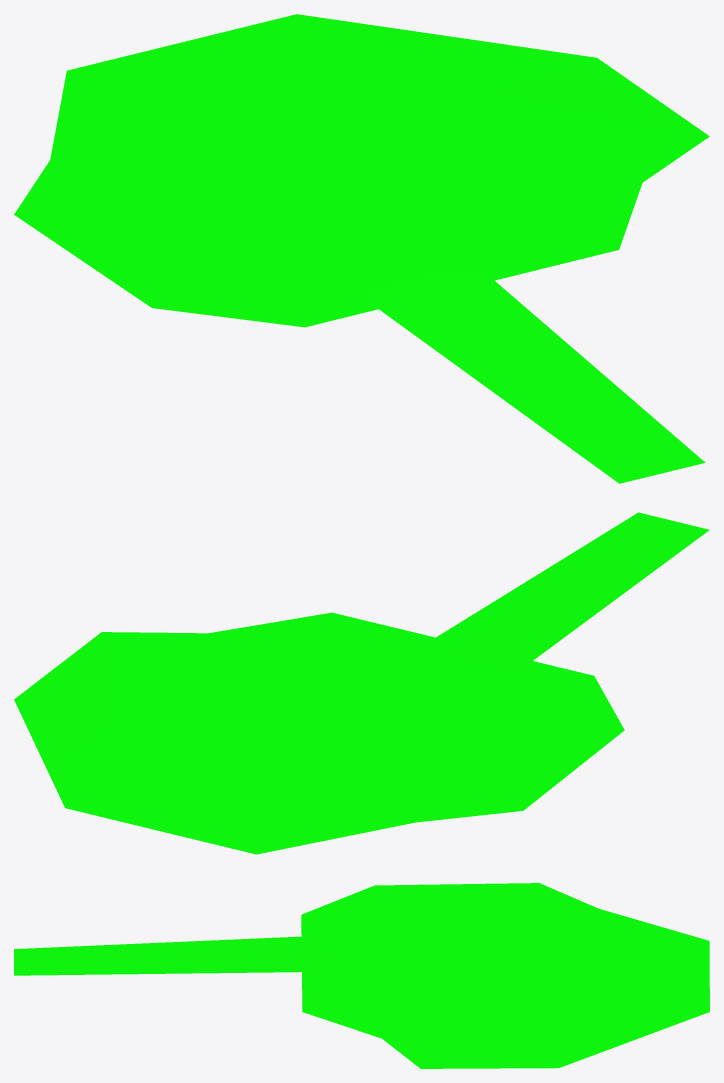
File: s080_sa0-floor.glb
3 views of the same model, one above another, from view 1: azimuth 30°, elevation 25°; view 2: azimuth 150°, elevation 25°; view 3: azimuth 270°, elevation 25° (orthographic). The views are drawn at different scales.
Visible parts, largest first — view 1: collision_floor-colonly; view 2: collision_floor-colonly; view 3: collision_floor-colonly.
Part boxes in pixels (x1,y1,x2,y2): collision_floor-colonly: [14, 14, 709, 483]; collision_floor-colonly: [14, 512, 709, 854]; collision_floor-colonly: [14, 883, 709, 1068].
Size of the model in its own units: 30.64 by 0.6641 by 48.48.
